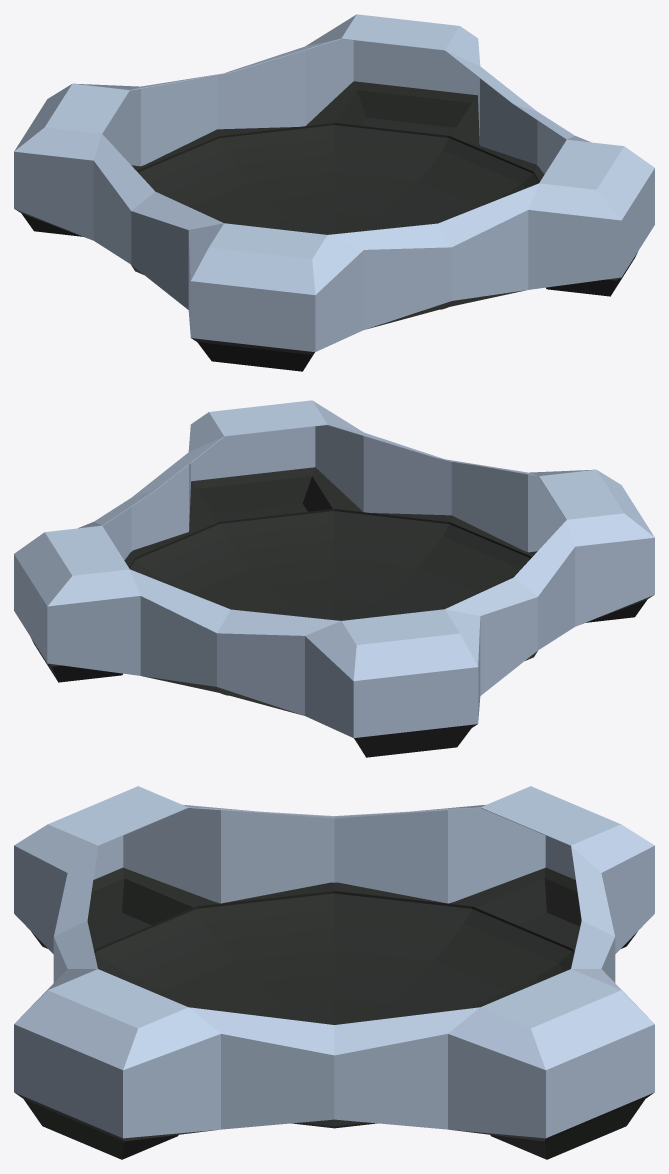
File: stadium.fbx
3 renders of one model, top to bottom at view 1: azimuth 30°, elevation 25°; view 2: azimuth 150°, elevation 25°; view 3: azimuth 270°, elevation 25°, orthographic. The views are drawn at different scales.
Visible parts, largest first — view 1: Sphere.001, Sphere; view 2: Sphere.001, Sphere; view 3: Sphere.001, Sphere.
Boxes of the visible parts, left/top/right/bottom form: Sphere.001: left=14, top=14, right=654, bottom=352; Sphere: left=15, top=81, right=637, bottom=371; Sphere.001: left=14, top=400, right=654, bottom=738; Sphere: left=31, top=467, right=653, bottom=757; Sphere.001: left=14, top=786, right=654, bottom=1138; Sphere: left=15, top=867, right=653, bottom=1159.
Bounding box in the file's own units: 1147 × 277 × 1147.
